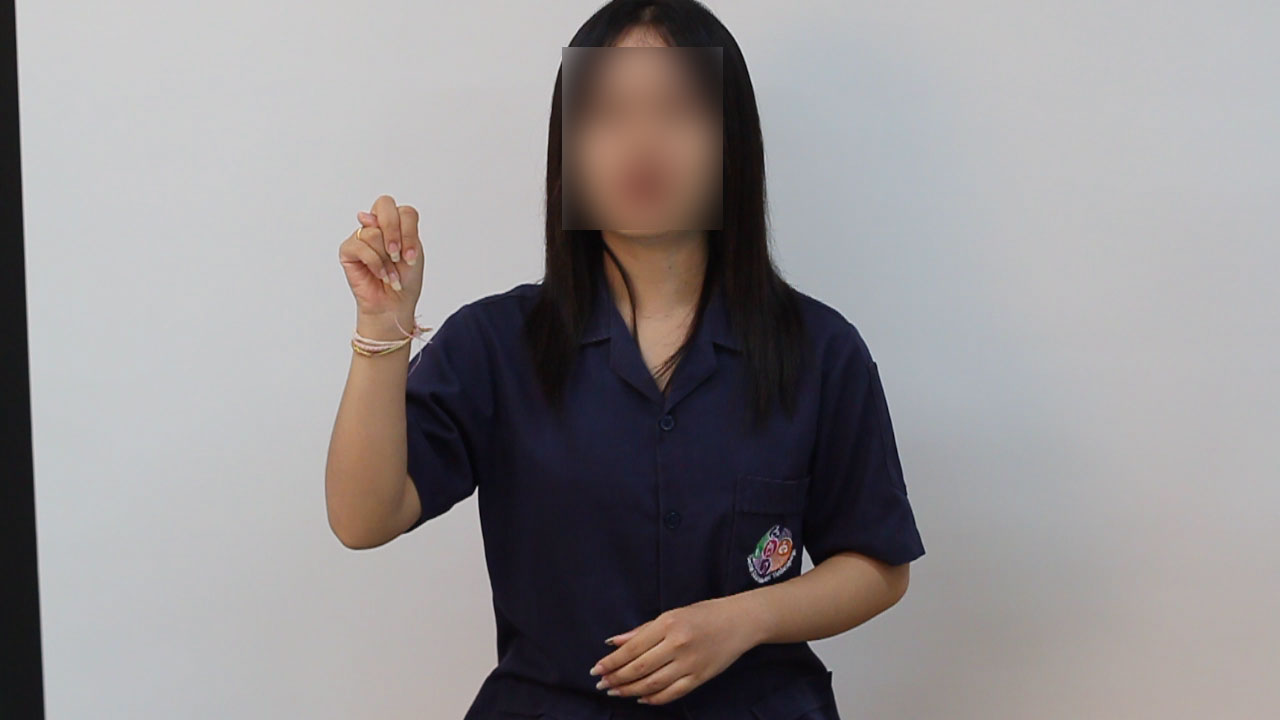nor: (331, 189, 434, 337)
